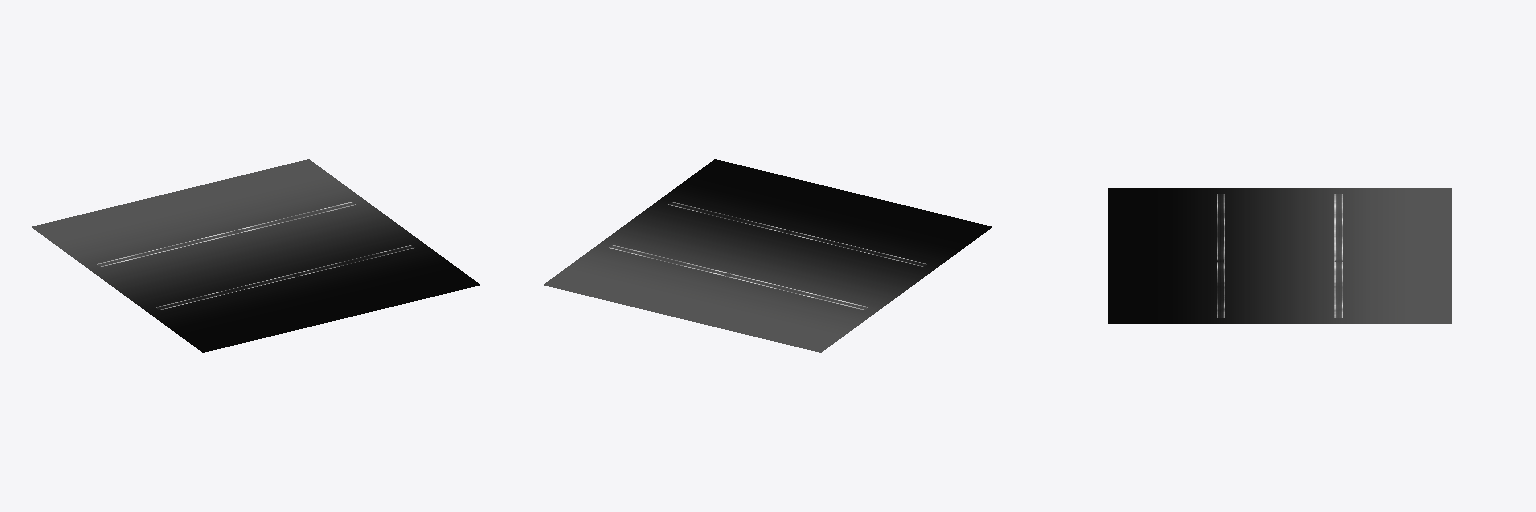
The picture shows the model from 3 angles: view 1: azimuth 30°, elevation 25°; view 2: azimuth 150°, elevation 25°; view 3: azimuth 270°, elevation 25°; orthographic projection.
Visible parts, largest first — view 1: 平面; view 2: 平面; view 3: 平面.
Part boxes in pixels (x1,y1,x2,y2): 平面: (32, 159, 479, 352); 平面: (544, 159, 991, 352); 平面: (1108, 188, 1451, 323).
Size of the model in its own units: 1158 by 0 by 1242.
Materials: 1 (1 with a texture image).